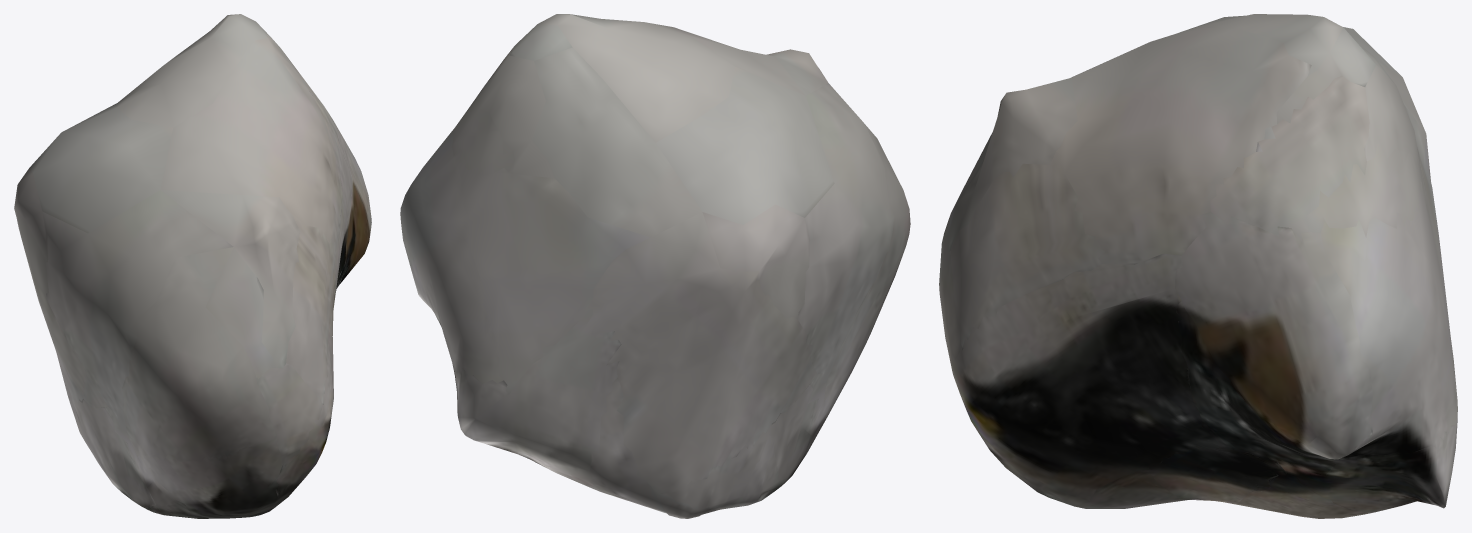
File: hall.glb
3 views of the same model, side by side, from view 1: azimuth 30°, elevation 25°; view 2: azimuth 150°, elevation 25°; view 3: azimuth 270°, elevation 25° (orthographic). The views are drawn at different scales.
Size of the model in its own units: 0.2257 by 0.2665 by 0.2264.
1 material, 1 textured.
